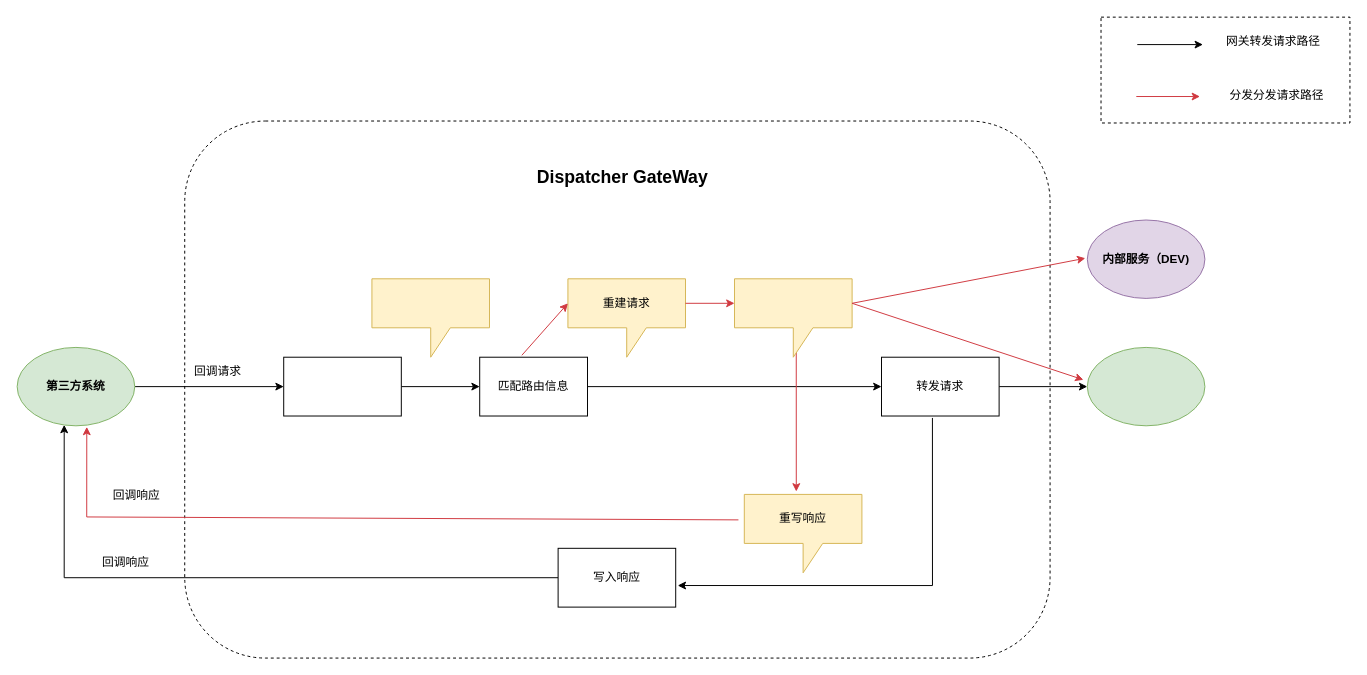
Some shapes in this 1367 by 675 pixel diagram are drawn without their labels. Each missing label, with the centre of its shape:
"内部服务(TEST)" belongs at point 1145,386.
"分发请求" belongs at point 793,317.
"缓存请求信息" belongs at point 430,317.
"网关收到请求" belongs at point 342,386.
